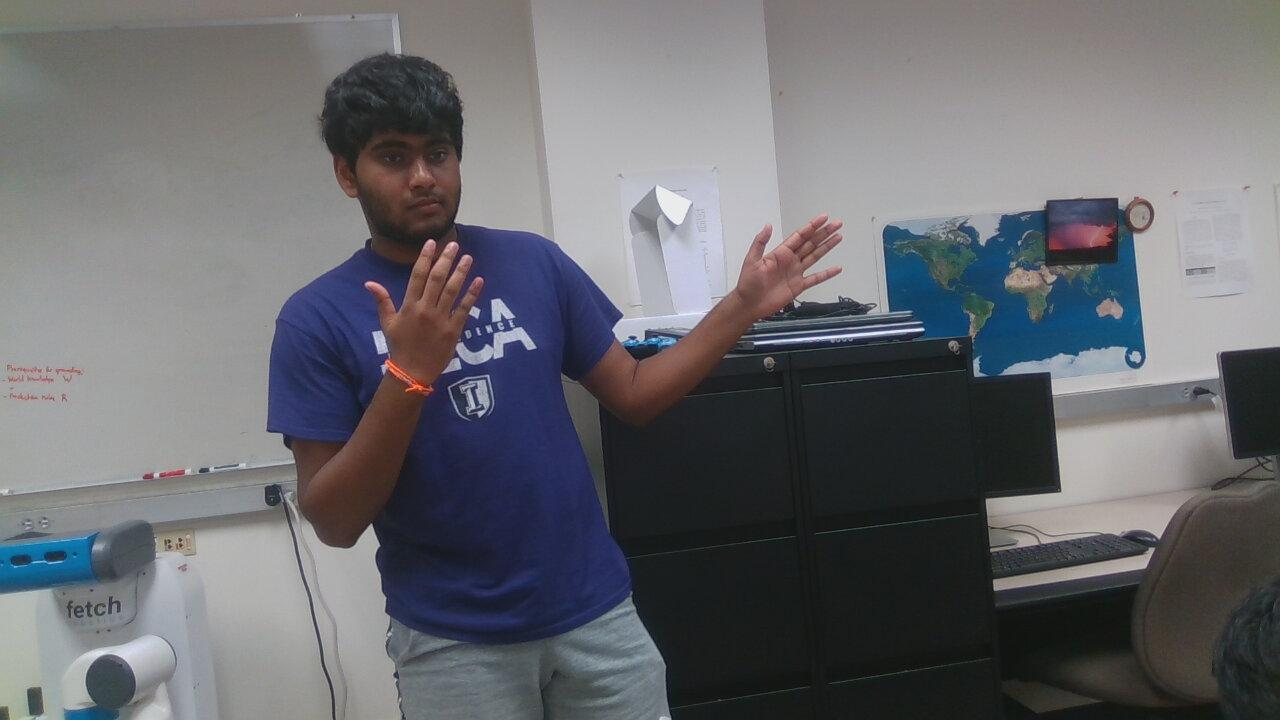hands: (358, 232, 489, 380), (726, 204, 860, 330)
